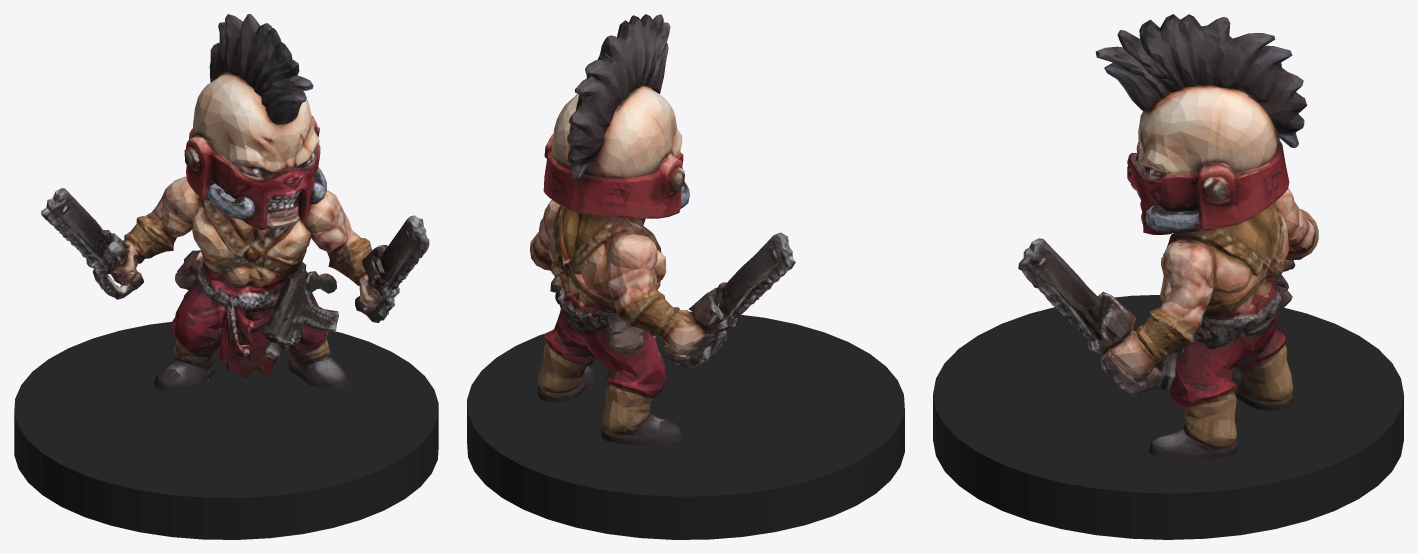
The model's file is jakhal-pack-leader.glb.
3 views of the same model, side by side, from view 1: azimuth 30°, elevation 25°; view 2: azimuth 150°, elevation 25°; view 3: azimuth 270°, elevation 25° (orthographic). The views are drawn at different scales.
Parts seen in each view (by area): view 1: base, figure; view 2: base, figure; view 3: base, figure.
Boxes of the visible parts, bbox=[...] form: base: bbox=[14, 322, 438, 539]; figure: bbox=[41, 14, 429, 391]; base: bbox=[467, 311, 904, 539]; figure: bbox=[530, 14, 795, 445]; base: bbox=[933, 295, 1403, 539]; figure: bbox=[1018, 14, 1318, 460].
Size of the model in its own units: 1.1 by 1.17 by 1.1.
Materials: 2 (1 with a texture image).
